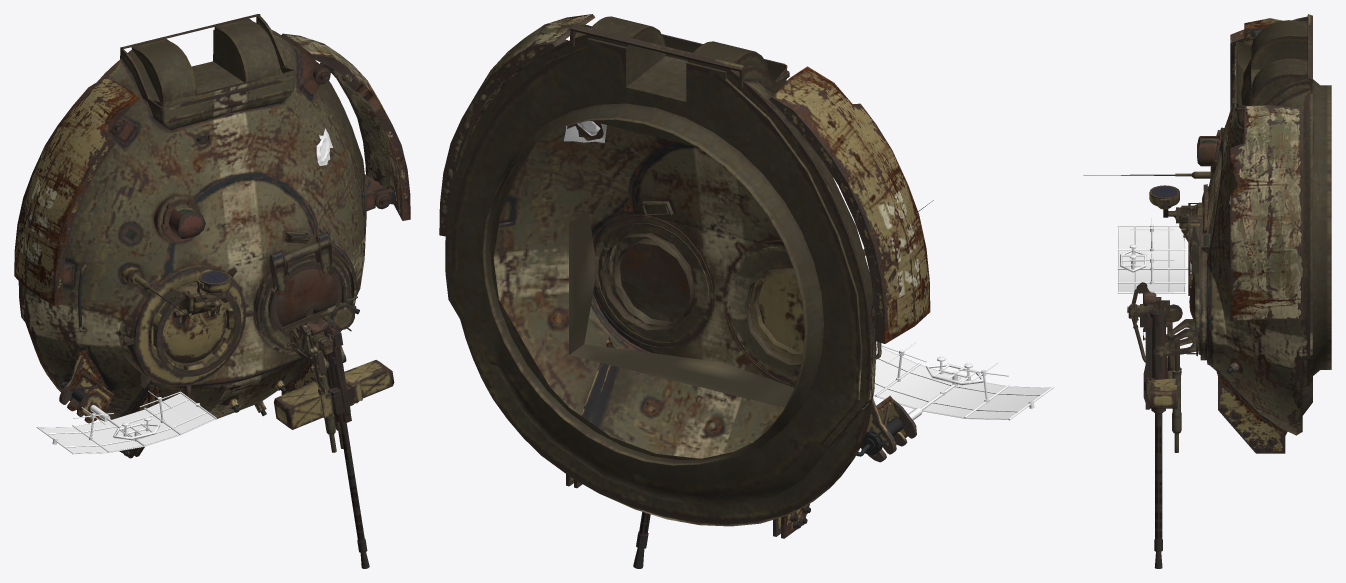
File: Turret_02.glb
The picture shows the model from 3 angles, left to right: view 1: azimuth 30°, elevation 25°; view 2: azimuth 150°, elevation 25°; view 3: azimuth 270°, elevation 25°; orthographic projection. The views are drawn at different scales.
Visible parts, largest first — view 1: set_0_group_0, set_0_group_1, set_0_group_2; view 2: set_0_group_0, set_0_group_1, set_0_group_2; view 3: set_0_group_0, set_0_group_1, set_0_group_2.
Boxes of the visible parts, x1,y1,x2,y2 form: set_0_group_0: (18, 14, 395, 568); set_0_group_1: (14, 33, 410, 458); set_0_group_2: (36, 390, 216, 454); set_0_group_0: (445, 16, 933, 568); set_0_group_1: (439, 14, 930, 538); set_0_group_2: (873, 342, 1054, 420); set_0_group_0: (1083, 14, 1331, 568); set_0_group_1: (1216, 18, 1303, 453); set_0_group_2: (1117, 218, 1191, 293).
Bounding box in the file's own units: 3.31 × 3.9 × 1.84.
Materials: 4 (2 with a texture image).
